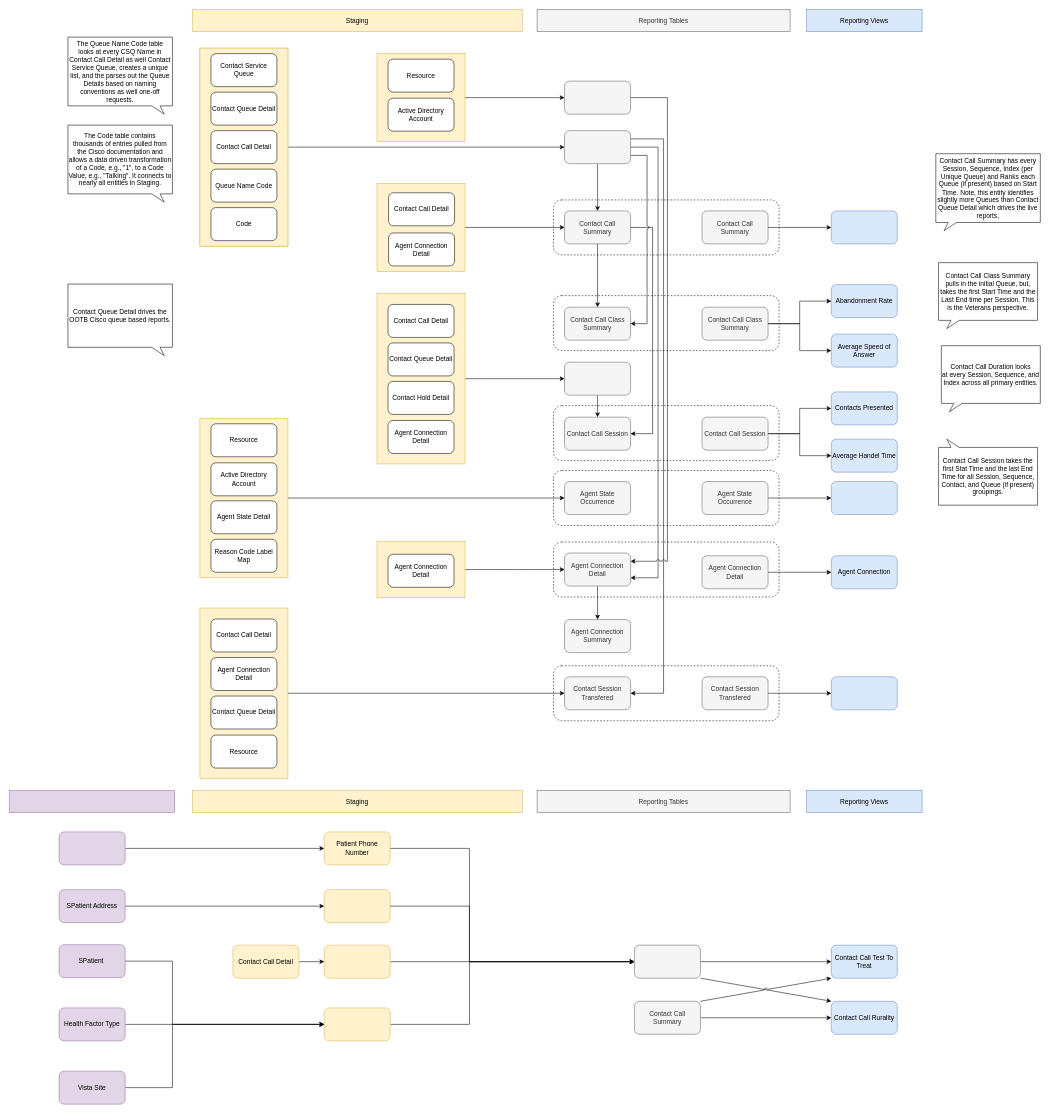
This 1050x1114 diagram has some shape labels left out. Here are the shapes that lost their labels. From the top down, the box of each, then its label:
(564, 81, 631, 114): Resource Directory
(564, 130, 631, 164): Contact Call Queue List
(831, 210, 897, 244): Queue Volume
(564, 362, 631, 395): Call Duration
(831, 481, 897, 515): Agent State
(831, 676, 897, 710): Transfer Session Summary
(9, 790, 175, 813): Patient and Facility Data
(59, 831, 125, 865): SPatient Phone
(324, 889, 390, 923): Patient Address
(324, 945, 390, 978): Contact Phone Number
(634, 945, 700, 978): Contact Call Patient
(324, 1007, 390, 1041): Patient Facility Health Factor
